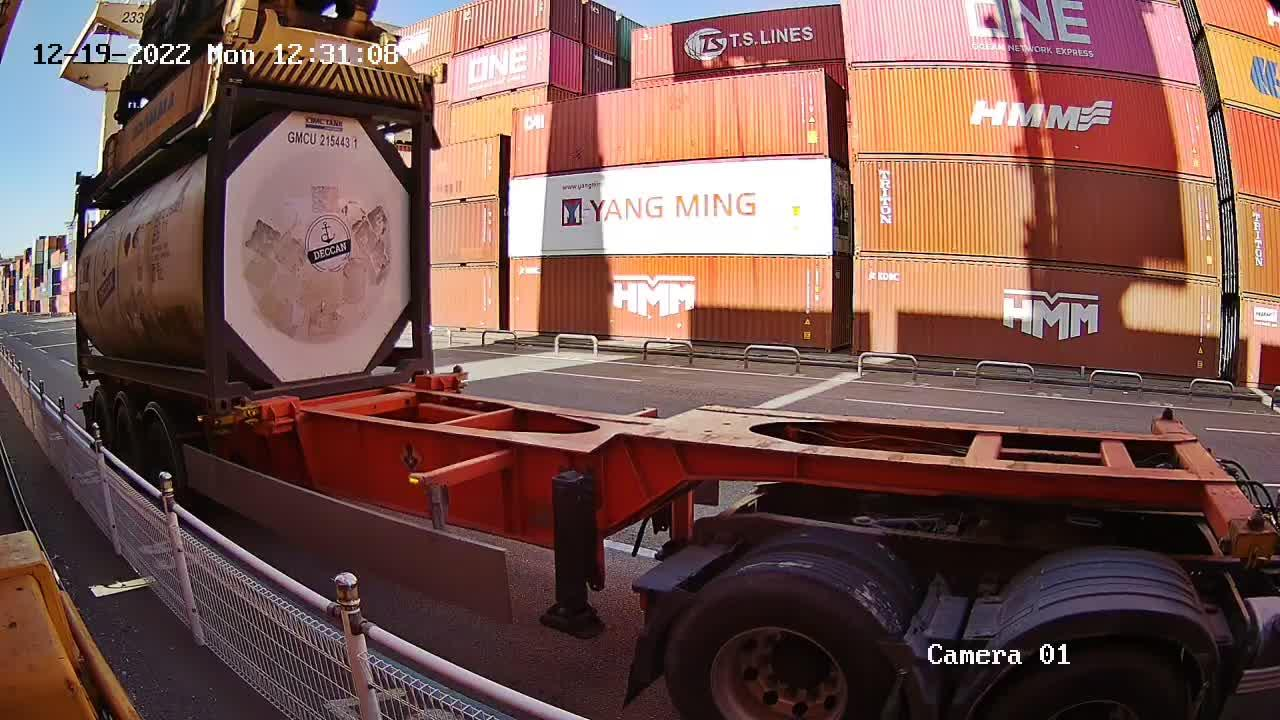Chassis: (216, 378, 432, 422)
Hole_L: (215, 373, 252, 415)
Hole_R: (188, 372, 215, 414)
Tire: (142, 418, 173, 487), (114, 405, 137, 462), (93, 397, 110, 439)
